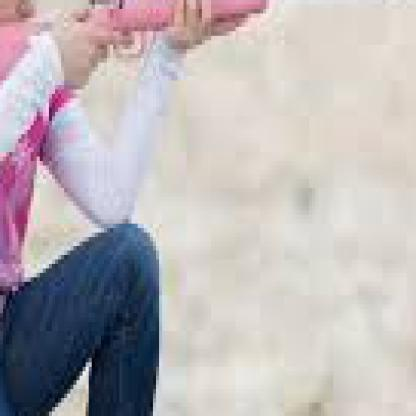gun: (0, 13, 16, 135)
